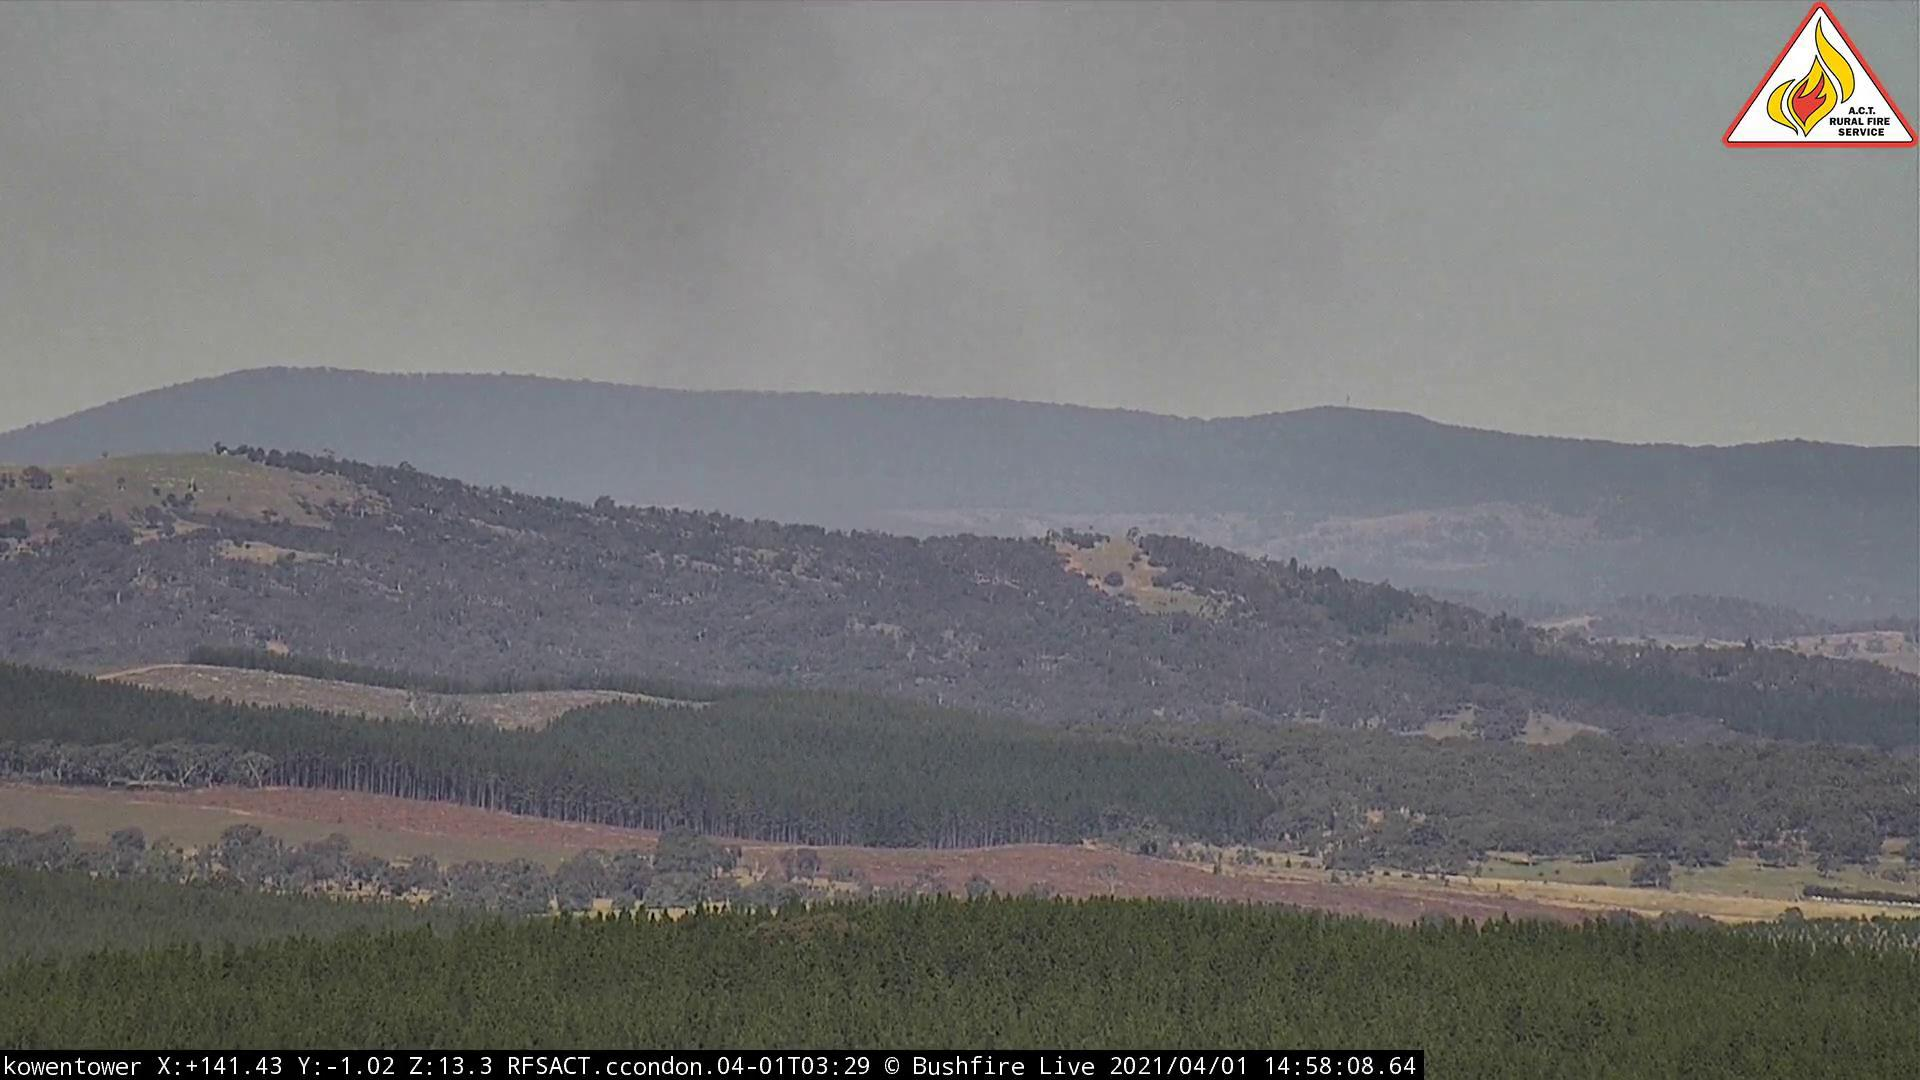Smoke: (404, 3, 1495, 460)
